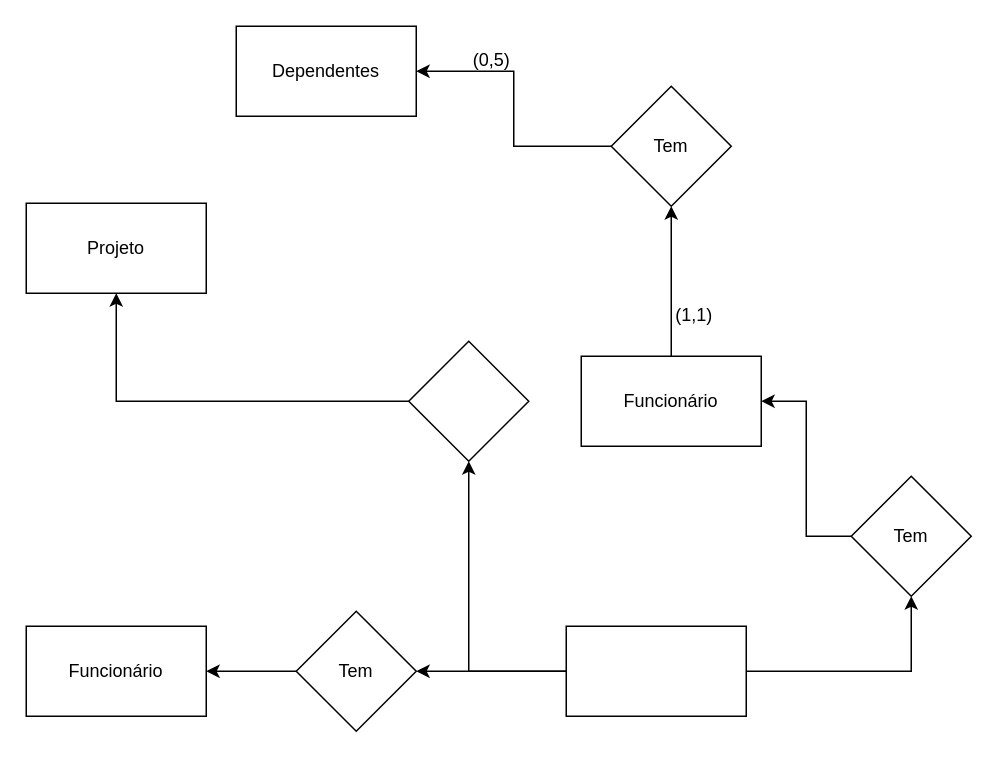
This 998x758 diagram has some shape labels left out. The centre of each missing label's shape, as x and y in pixels:
"Controla" belongs at (x=468, y=400).
"Departamentos" belongs at (x=655, y=670).
